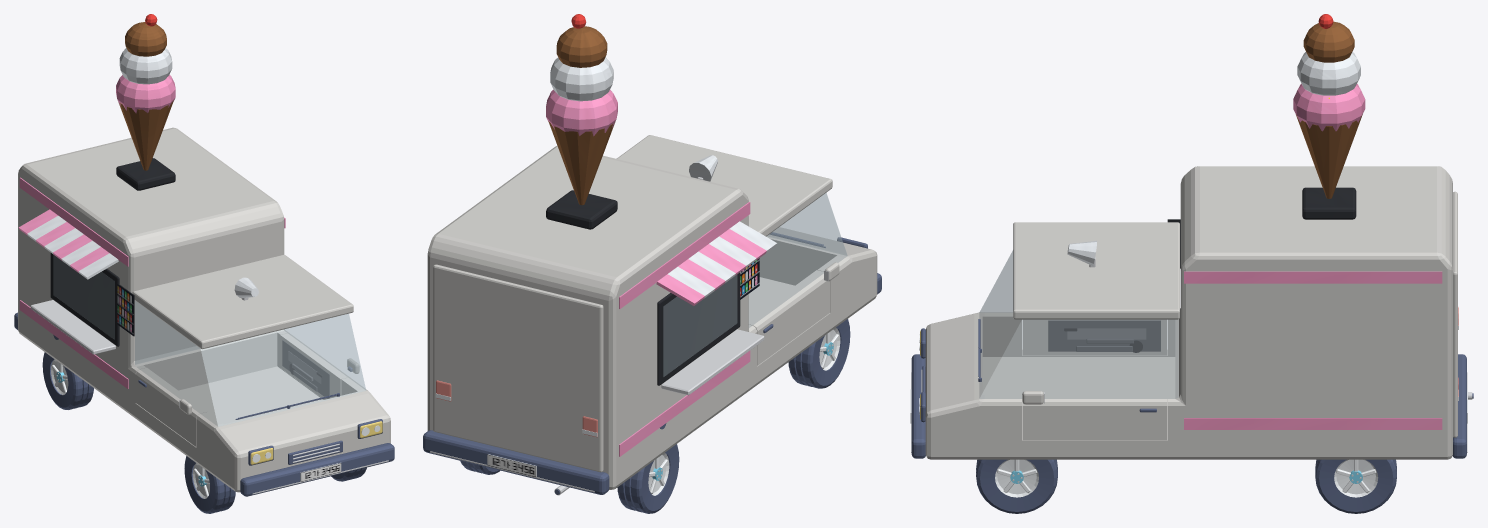
Rendered from V05_ice_cream_truck_v3.glb.
3 views of the same model, side by side, from view 1: azimuth 30°, elevation 25°; view 2: azimuth 150°, elevation 25°; view 3: azimuth 270°, elevation 25° (orthographic). The views are drawn at different scales.
Parts seen in each view (by area): view 1: Body, Static, Glass, Door_R, Wheel_FR, Wheel_RR, DoorDetail_L, Door_L; view 2: Body, Static, Trunk, Glass, Door_R, Wheel_FR, Wheel_RR; view 3: Body, Static, Glass, Door_L, Wheel_FL, Wheel_RL, DoorDetail_R, Door_R, Trunk.
Part boxes in pixels (x1,y1,x2,y2): Body: [18, 127, 390, 492]; Static: [14, 14, 394, 496]; Glass: [135, 301, 366, 426]; Door_R: [135, 368, 206, 446]; Wheel_FR: [184, 456, 235, 513]; Wheel_RR: [42, 352, 93, 409]; DoorDetail_L: [282, 340, 329, 398]; Door_L: [280, 333, 349, 399]; Body: [427, 135, 877, 489]; Static: [423, 14, 881, 495]; Trunk: [433, 264, 603, 472]; Glass: [749, 193, 847, 327]; Door_R: [748, 270, 830, 365]; Wheel_FR: [788, 319, 850, 388]; Wheel_RR: [617, 444, 679, 513]; Body: [925, 166, 1452, 459]; Static: [910, 14, 1473, 458]; Glass: [979, 250, 1178, 398]; Door_L: [1023, 394, 1166, 440]; Wheel_FL: [976, 459, 1057, 513]; Wheel_RL: [1315, 459, 1396, 513]; DoorDetail_R: [1048, 320, 1160, 352]; Door_R: [1023, 319, 1166, 355]; Trunk: [1453, 191, 1457, 437].
Size of what is drawn, in the model's own units: 2.52 by 4.7 by 5.23.
Materials: 4 (1 with a texture image).
